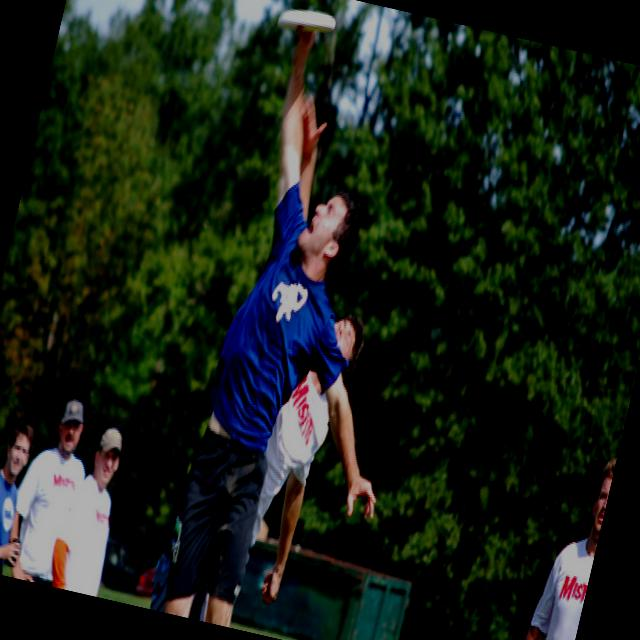Vehicle: (229, 516, 421, 640), (97, 538, 147, 594), (133, 566, 158, 596)
